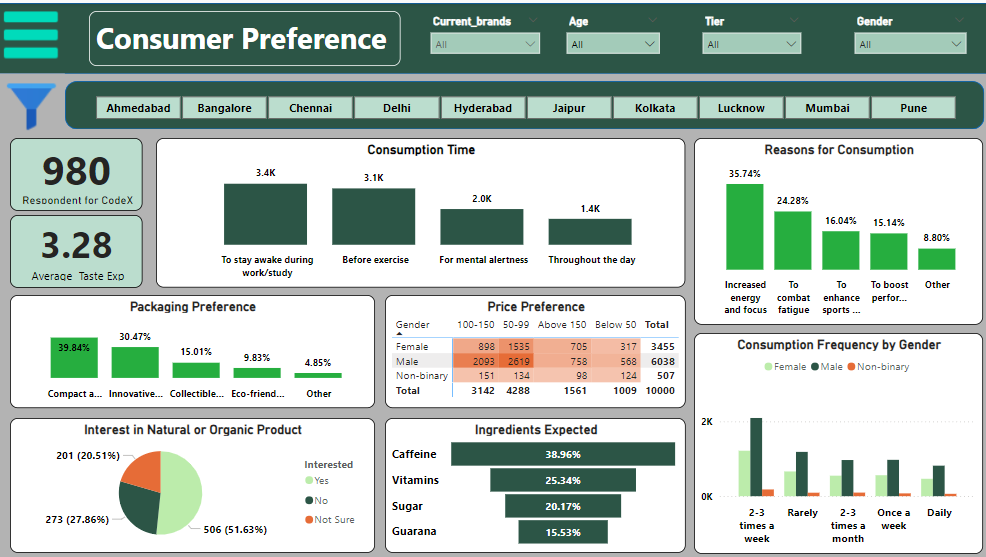

The page's visual inventory and layout, read from the dashboard file:
{"tool":"powerbi","page":{"name":"Consumer Preference","canvas":[1280,720],"ordinal":2},"visuals":[{"type":"card","title":"Respondent for Codex","fields":{"Values":["CountNonNull(fact_survey_responses.Respondent_ID)"]},"box":[14.2,174.3,171.5,93.5],"z":0},{"type":"card","title":"Count  Respondents","fields":{"Values":["Avg(fact_survey_responses.Taste_experience)"]},"box":[14.2,273.5,171.5,93.5],"z":1000},{"type":"columnChart","title":" Consumption Time","fields":{"Category":["fact_survey_responses.Consume_time"],"Y":["CountNonNull(fact_survey_responses.Response_ID)"]},"box":[202.7,174.3,683.1,192.8],"z":2000},{"type":"columnChart","title":" Reasons for Consumption","fields":{"Y":["CountNonNull(fact_survey_responses.Response_ID)"],"Category":["fact_survey_responses.Consume_reason"]},"box":[897.2,174.3,372.8,240.9],"z":3000},{"type":"columnChart","title":" Packaging Preference","fields":{"Y":["CountNonNull(fact_survey_responses.Response_ID)"],"Category":["fact_survey_responses.Packaging_preference"]},"box":[14.2,377,470.6,146],"z":4000},{"type":"pivotTable","title":"Price Preference","fields":{"Rows":["dim_repondents.Gender"],"Columns":["fact_survey_responses.Price_range"],"Values":["CountNonNull(fact_survey_responses.Price_range)"]},"box":[497.5,377,388.3,146],"z":5000},{"type":"pieChart","title":" Interest in Natural or Organic Product","fields":{"Category":["fact_survey_responses.Interest_in_natural_or_organic"],"Y":["CountNonNull(fact_survey_responses.Response_ID)"]},"box":[14.2,535.7,470.6,174.3],"z":6000},{"type":"funnel","title":"Ingredients Expected","fields":{"Category":["fact_survey_responses.Ingredients_expected"],"Y":["CountNonNull(fact_survey_responses.Respondent_ID)"]},"box":[497.5,535.7,388.3,174.3],"z":7000},{"type":"clusteredColumnChart","title":"Consumption Frequency by Gender","fields":{"Category":["fact_survey_responses.Consume_frequency"],"Series":["dim_repondents.Gender"],"Y":["CountNonNull(fact_survey_responses.Response_ID)"]},"box":[897.2,425.2,372.8,284.9],"z":8000},{"type":"shape","box":[0,0,1280,91.3],"z":9000},{"type":"shape","box":[85,100.6,1186.3,62.4],"z":10000},{"type":"textbox","box":[115.6,10,402.4,71.3],"z":11000},{"type":"slicer","fields":{"Values":["dim_repondents.Age"]},"box":[722.1,10,139.8,71.3],"z":12000},{"type":"slicer","fields":{"Values":["dim_cities.Tier"]},"box":[897.6,10,147,71.3],"z":13000},{"type":"slicer","fields":{"Values":["fact_survey_responses.Current_brands"]},"box":[546.5,10,161.2,71.3],"z":14000},{"type":"slicer","fields":{"Values":["dim_repondents.Gender"]},"box":[1094.5,10,164.1,71.3],"z":15000},{"type":"slicer","fields":{"Values":["dim_cities.City"]},"box":[99.2,113.4,1159.4,39.7],"z":16000},{"type":"actionButton","title":"Menu bar","box":[0,0,100.1,82.2],"z":17000},{"type":"actionButton","title":"Clear filter","box":[0,90.7,85,83.6],"z":18000}]}

Visuals, with their boxes in screenshot pixels (x1, y1, x2, y2), scaled from the page's 1280x720 canvas onto the 986x557 screenshot:
"Respondent for Codex" card: <bbox>11, 135, 143, 207</bbox>
"Count  Respondents" card: <bbox>11, 212, 143, 284</bbox>
" Consumption Time" columnChart: <bbox>156, 135, 682, 284</bbox>
" Reasons for Consumption" columnChart: <bbox>691, 135, 978, 321</bbox>
" Packaging Preference" columnChart: <bbox>11, 292, 373, 405</bbox>
"Price Preference" pivotTable: <bbox>383, 292, 682, 405</bbox>
" Interest in Natural or Organic Product" pieChart: <bbox>11, 414, 373, 549</bbox>
"Ingredients Expected" funnel: <bbox>383, 414, 682, 549</bbox>
"Consumption Frequency by Gender" clusteredColumnChart: <bbox>691, 329, 978, 549</bbox>
shape: <bbox>0, 0, 985, 71</bbox>
shape: <bbox>65, 78, 979, 126</bbox>
textbox: <bbox>89, 8, 399, 63</bbox>
slicer - dim_repondents.Age: <bbox>556, 8, 664, 63</bbox>
slicer - dim_cities.Tier: <bbox>691, 8, 805, 63</bbox>
slicer - fact_survey_responses.Current_brands: <bbox>421, 8, 545, 63</bbox>
slicer - dim_repondents.Gender: <bbox>843, 8, 970, 63</bbox>
slicer - dim_cities.City: <bbox>76, 88, 970, 118</bbox>
"Menu bar" actionButton: <bbox>0, 0, 77, 64</bbox>
"Clear filter" actionButton: <bbox>0, 70, 65, 135</bbox>
